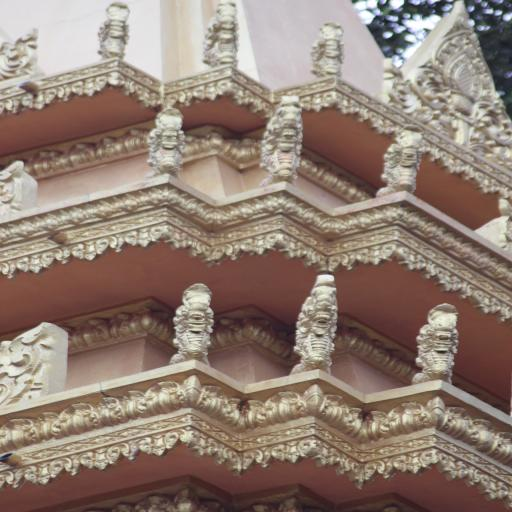la: (439, 33, 491, 100), (462, 100, 512, 155), (400, 73, 446, 126), (384, 399, 429, 435), (50, 403, 95, 438), (142, 380, 184, 414), (266, 387, 306, 422), (63, 236, 114, 263), (14, 250, 63, 278), (473, 466, 510, 502), (139, 430, 189, 456), (122, 225, 174, 250), (20, 86, 70, 112), (232, 232, 284, 256), (268, 439, 322, 462), (23, 459, 70, 485), (0, 416, 37, 449), (85, 442, 127, 470), (422, 257, 456, 290), (437, 452, 471, 484), (463, 282, 497, 314), (355, 242, 400, 264), (444, 402, 470, 439), (57, 143, 97, 167), (395, 454, 440, 474), (308, 440, 342, 466), (72, 73, 107, 98), (237, 397, 266, 427), (92, 131, 122, 160), (92, 398, 124, 425), (204, 382, 228, 418), (56, 453, 92, 477), (30, 148, 63, 174), (274, 232, 307, 257), (402, 245, 429, 275), (193, 129, 226, 153), (129, 83, 162, 107), (38, 408, 64, 438), (118, 127, 148, 153), (320, 91, 352, 115), (360, 457, 388, 484), (184, 234, 213, 260), (216, 444, 241, 474), (236, 448, 266, 473), (192, 431, 218, 457), (494, 427, 512, 463), (367, 406, 386, 440), (470, 417, 490, 449), (345, 456, 367, 485), (323, 392, 342, 425), (194, 82, 225, 102), (126, 386, 144, 420), (216, 78, 245, 98), (310, 250, 334, 274), (436, 149, 459, 173), (465, 163, 488, 186), (483, 174, 505, 198), (363, 110, 387, 132), (311, 163, 335, 184), (340, 176, 361, 198), (349, 406, 363, 438), (225, 397, 241, 425), (163, 89, 190, 105), (299, 95, 319, 114)
ran: (287, 285, 342, 365), (418, 307, 462, 381), (174, 286, 214, 359), (269, 105, 303, 178), (202, 5, 244, 64), (151, 108, 186, 176), (94, 0, 132, 60), (387, 138, 421, 197), (315, 25, 345, 74)
